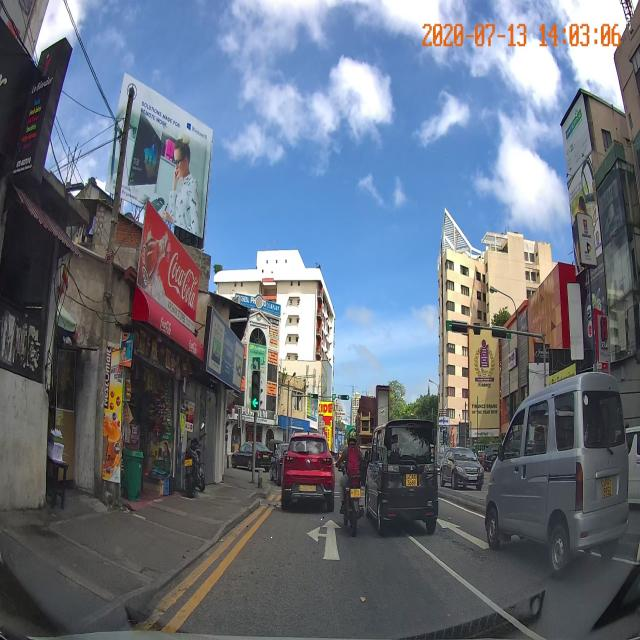forward_lft: (219, 510, 363, 573)
